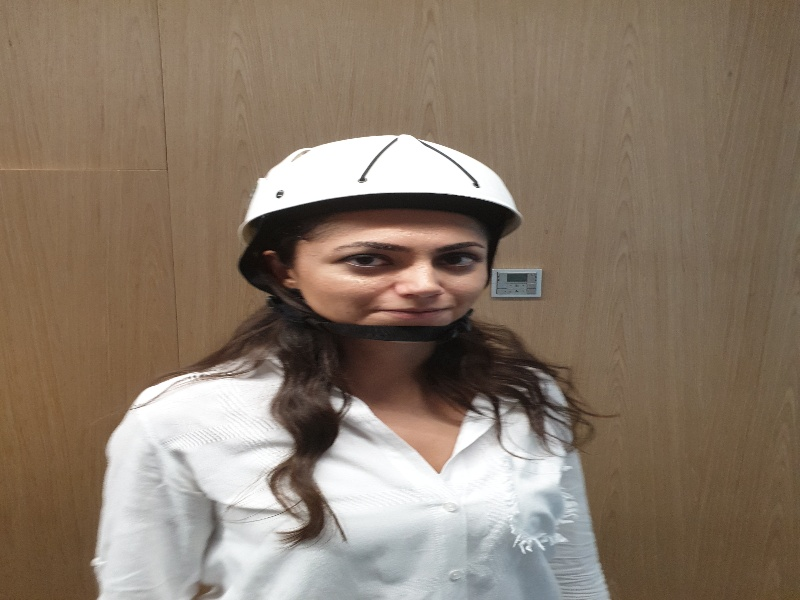Baret: (242, 135, 521, 227)
